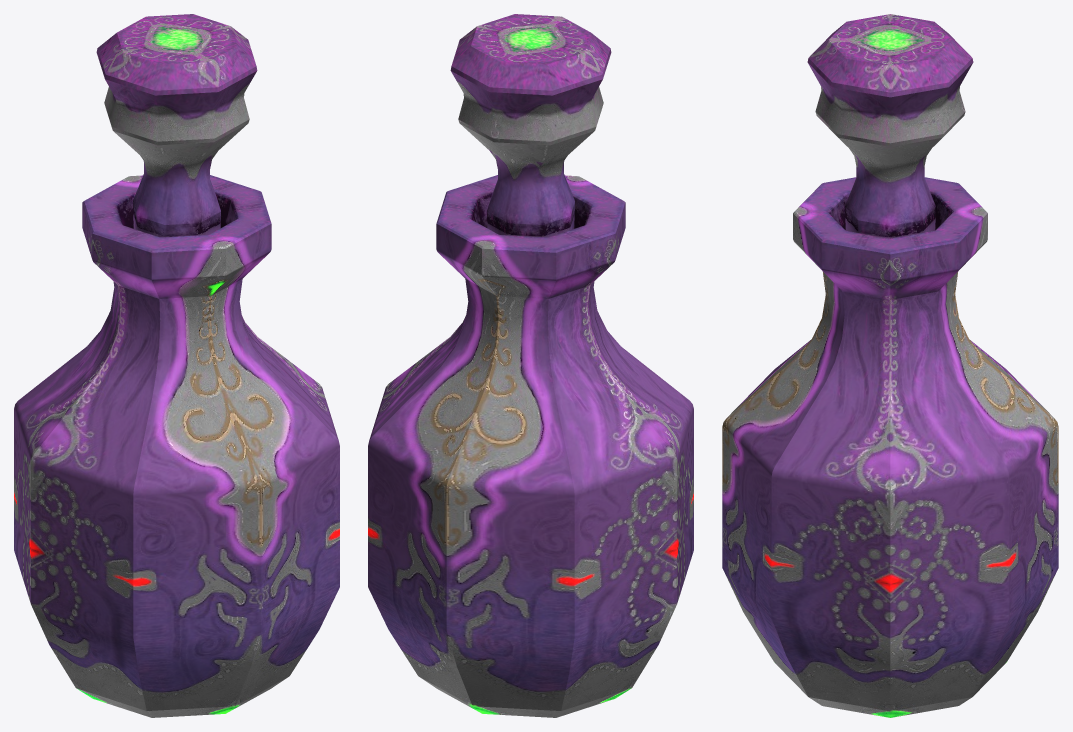
Rendered from fancy_perfume_bottle.glb.
3 views of the same model, side by side, from view 1: azimuth 30°, elevation 25°; view 2: azimuth 150°, elevation 25°; view 3: azimuth 270°, elevation 25° (orthographic).
Visible parts, largest first — view 1: g; view 2: g; view 3: g.
Part boxes in pixels (x1,y1,x2,y2): g: [14, 14, 339, 717]; g: [368, 14, 693, 717]; g: [722, 14, 1058, 717].
Size of the model in its own units: 0.9571 by 2 by 0.9571.
Materials: 1 (1 with a texture image).
